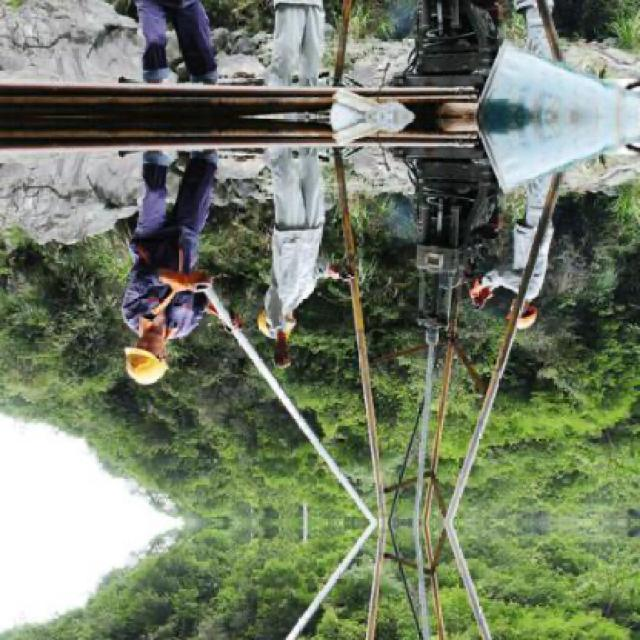con casco: (126, 311, 191, 393), (245, 301, 318, 347), (488, 284, 538, 341)
